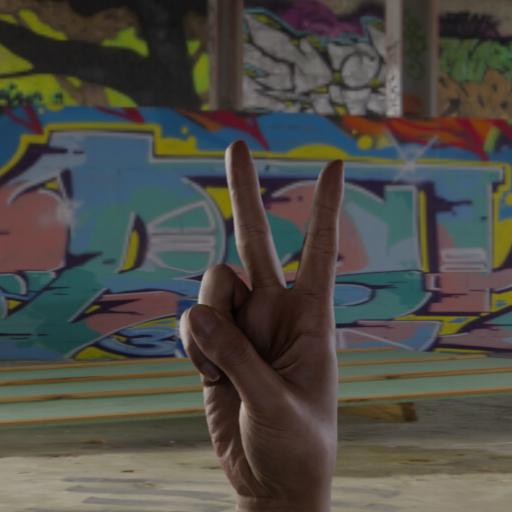V: (175, 137, 354, 501)
